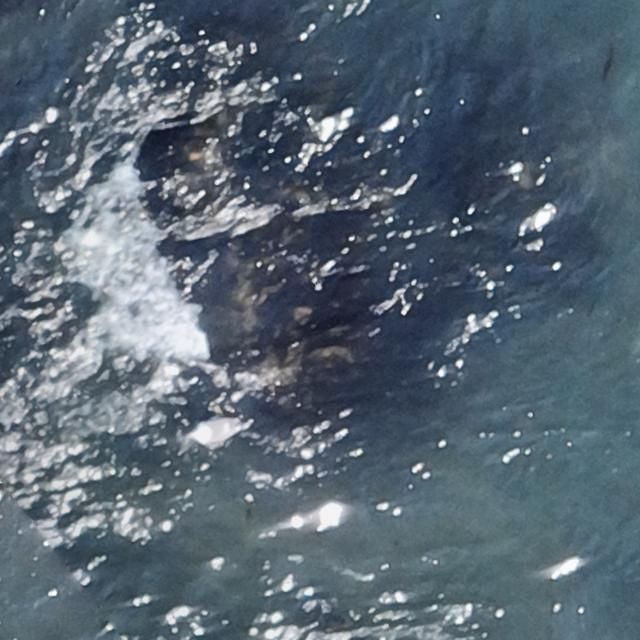umineko: (189, 413, 246, 452)
